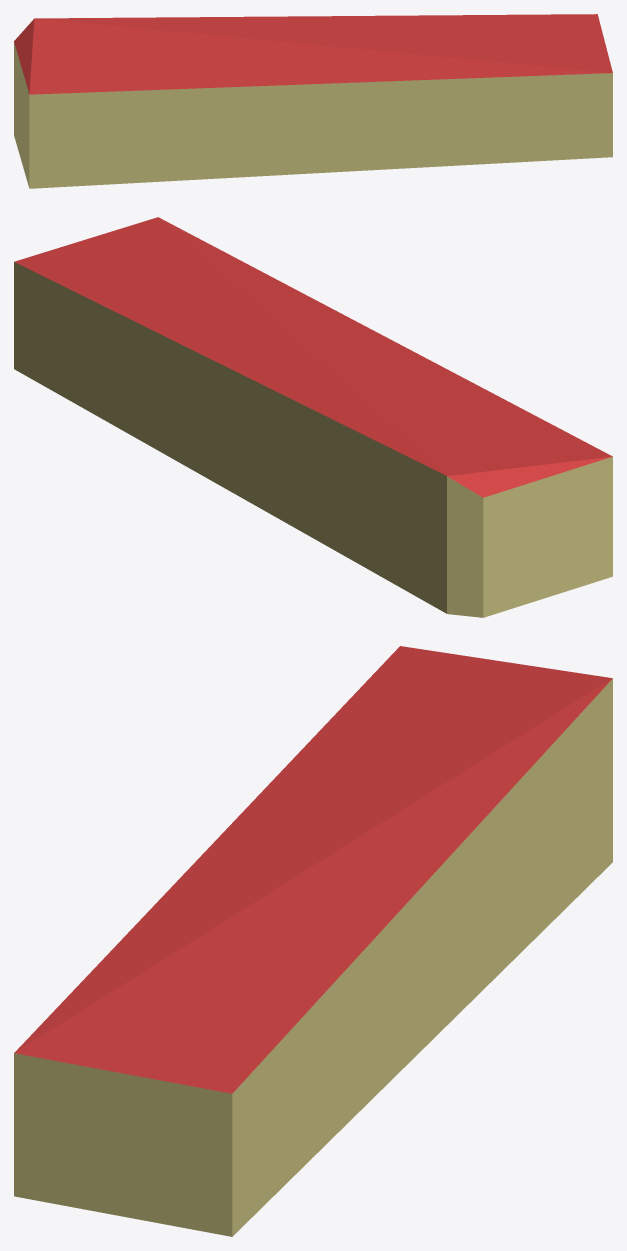
The picture shows the model from 3 angles, top to bottom: view 1: azimuth 30°, elevation 25°; view 2: azimuth 150°, elevation 25°; view 3: azimuth 270°, elevation 25°; orthographic projection. The views are drawn at different scales.
Visible parts, largest first — view 1: group_4, group_3; view 2: group_4, group_3; view 3: group_3, group_4.
Part boxes in pixels (<box>): group_4: <box>14,42,612,188</box>; group_3: <box>14,14,612,94</box>; group_4: <box>14,262,612,617</box>; group_3: <box>14,217,612,497</box>; group_3: <box>14,646,612,1093</box>; group_4: <box>14,678,612,1236</box>.
Size of the model in its own units: 28.76 by 16.9 by 5.73.
